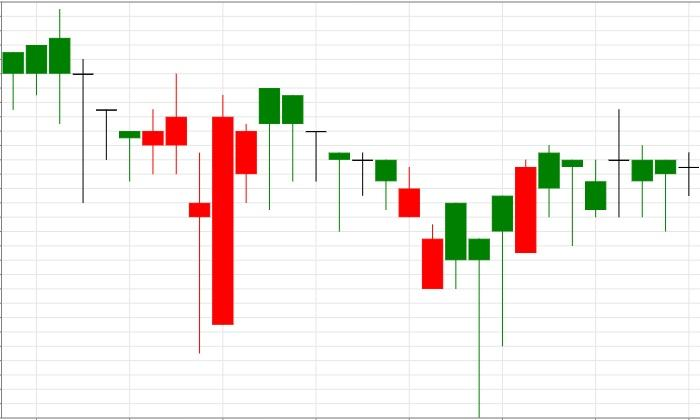hammer_rise: (259, 88, 491, 418)
hanging_man_fall: (188, 87, 281, 353)
